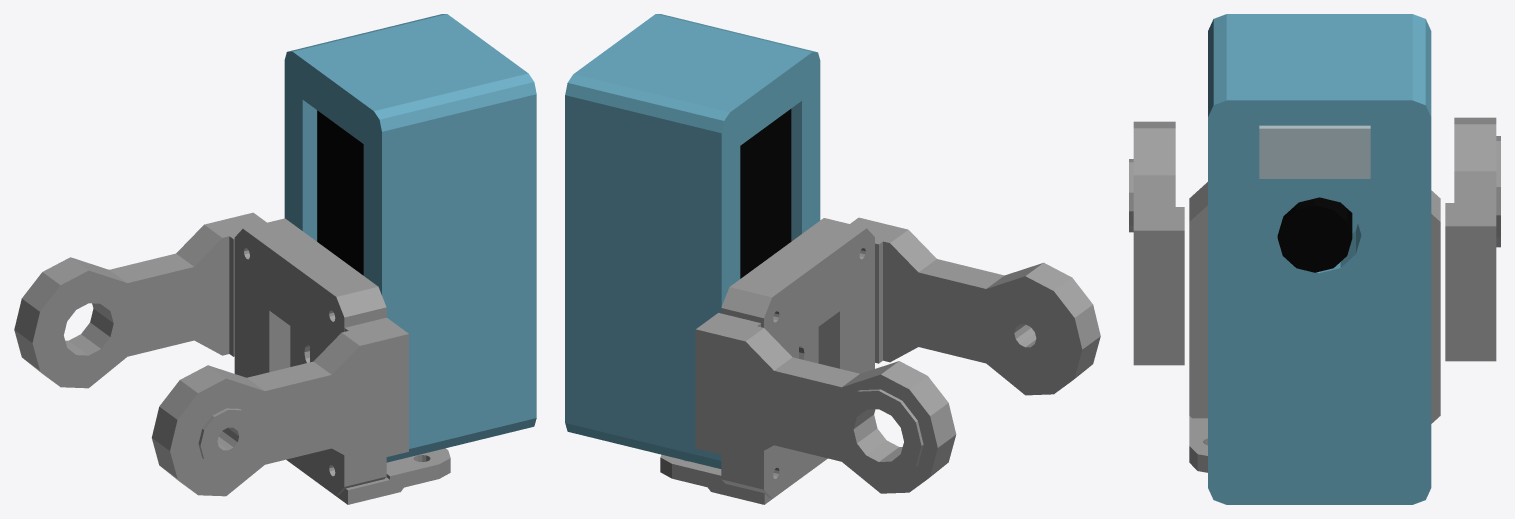
Rendered from head-leye-y.glb.
The picture shows the model from 3 angles, left to right: view 1: azimuth 30°, elevation 25°; view 2: azimuth 150°, elevation 25°; view 3: azimuth 270°, elevation 25°; orthographic projection. The views are drawn at different scales.
Size of the model in its own units: 0.0578 by 0.0505 by 0.04.
